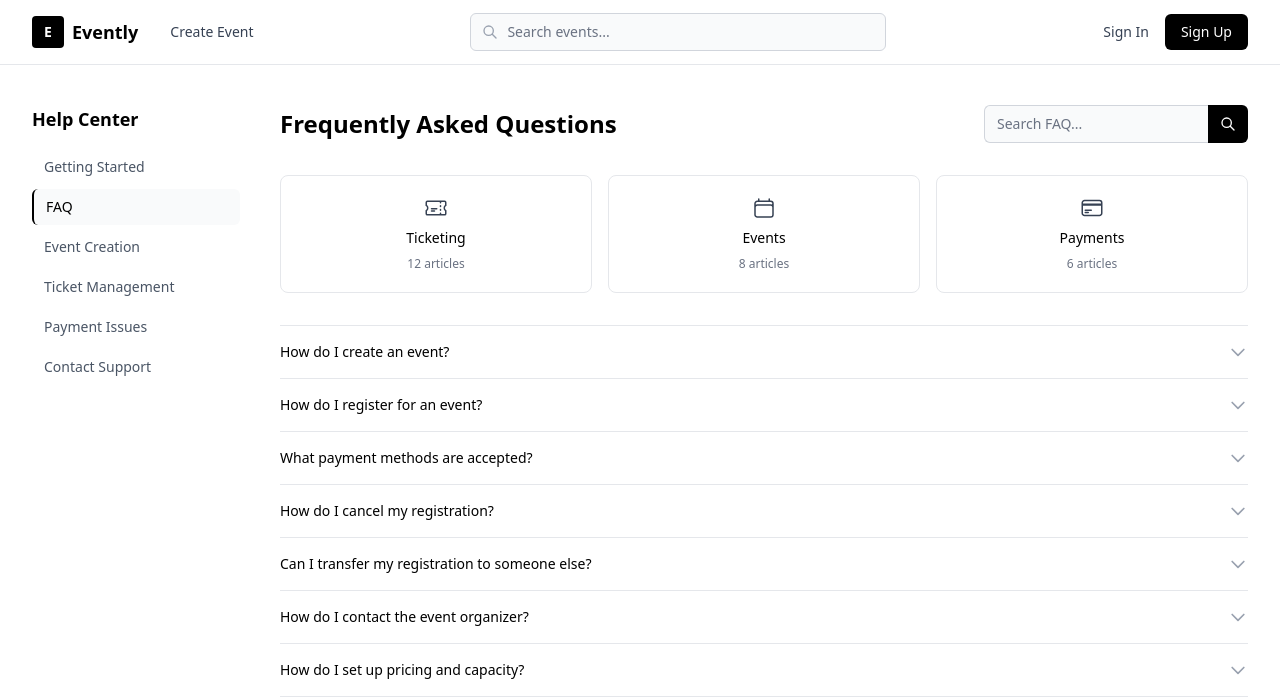
HelpPage › shows empty state when no FAQ matches search
Type "xyznonexistent" into the search field with placeholder "Search FAQ..." at (1096, 124), box [984,105,1208,143]
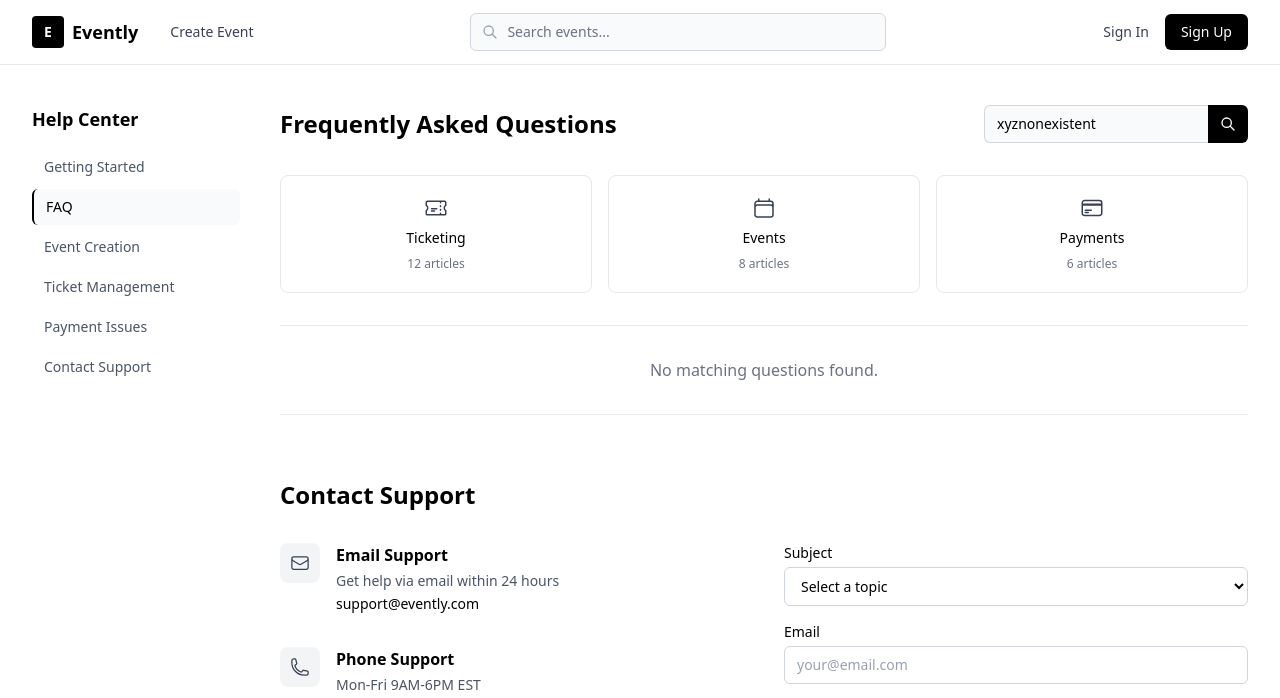
expect the text "No matching questions found." is shown: met, box [650,359,878,381]
